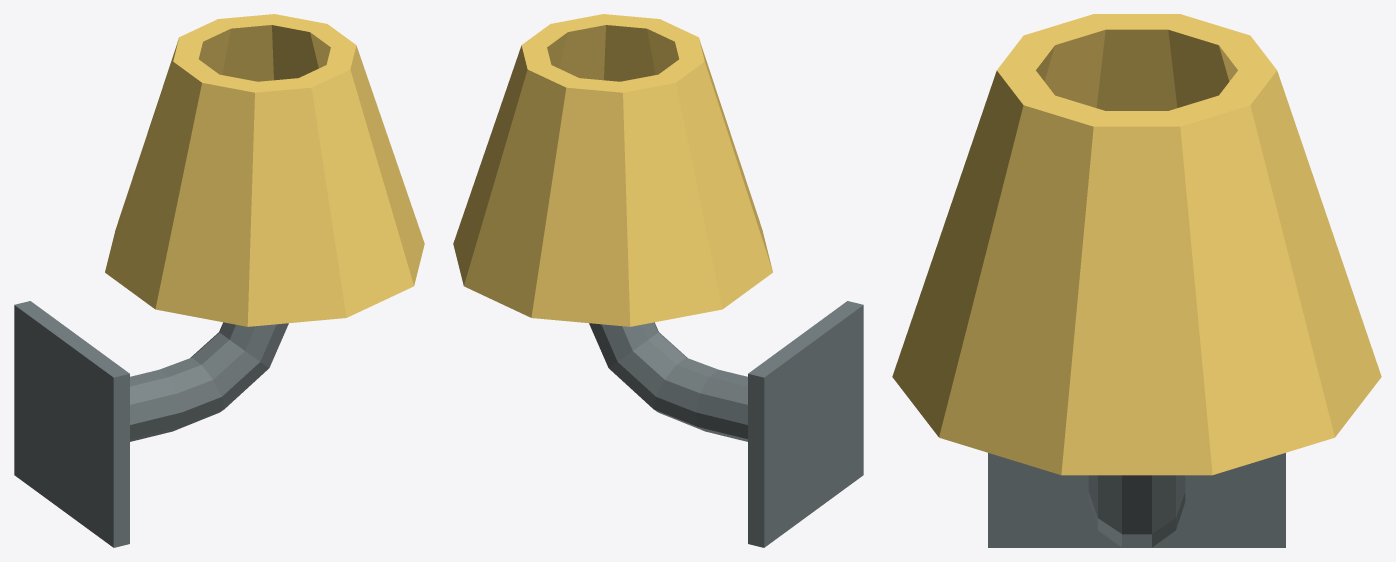
File: muralLamp.fbx
3 renders of one model, left to right at view 1: azimuth 30°, elevation 25°; view 2: azimuth 150°, elevation 25°; view 3: azimuth 270°, elevation 25°, orthographic. The views are drawn at different scales.
Parts seen in each view (by area): view 1: Cube.001; view 2: Cube.001; view 3: Cube.001.
Part boxes in pixels (bbox=[...]): Cube.001: bbox=[14, 14, 424, 547]; Cube.001: bbox=[453, 14, 863, 547]; Cube.001: bbox=[892, 14, 1381, 547].
Size of the model in its own units: 34.46 by 40.16 by 29.09.
